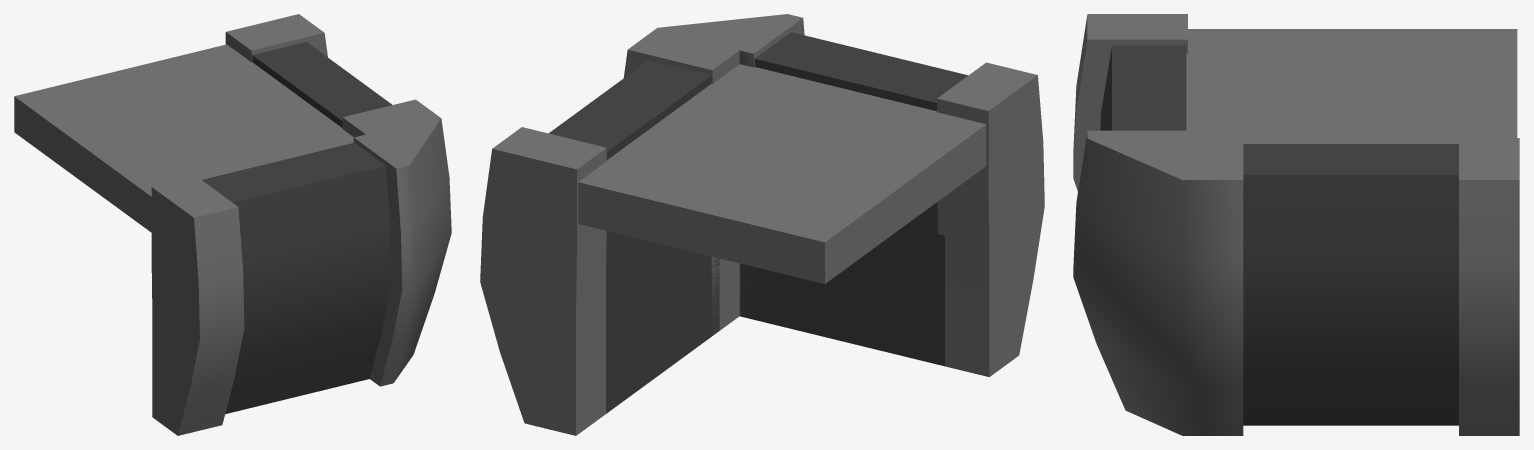
File: mesh_stone_harbour_corner_pieve.fbx
3 renders of one model, left to right at view 1: azimuth 30°, elevation 25°; view 2: azimuth 150°, elevation 25°; view 3: azimuth 270°, elevation 25°, orthographic. The views are drawn at different scales.
Parts seen in each view (by area): view 1: stone_harbour_corner_pieve; view 2: stone_harbour_corner_pieve; view 3: stone_harbour_corner_pieve.
Part boxes in pixels (bbox=[...]): stone_harbour_corner_pieve: bbox=[14, 14, 451, 435]; stone_harbour_corner_pieve: bbox=[480, 14, 1044, 435]; stone_harbour_corner_pieve: bbox=[1073, 14, 1519, 435].
Bounding box in the file's own units: 867 × 639 × 950.
1 material, 1 textured.
